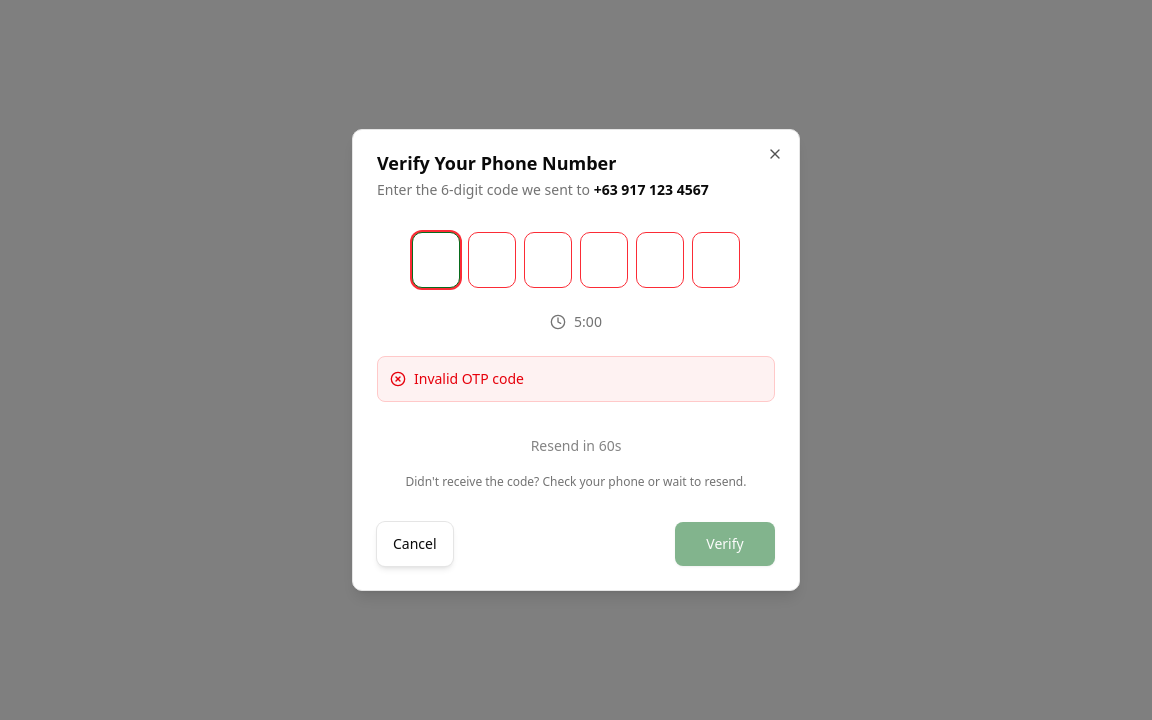
OTPVerificationModal › Error States › should clear error when user starts typing
Check: the text "Invalid OTP code" is shown, box [414, 369, 524, 389]
Type "1" into the field named "Digit 1 of 6" at (436,260), box [412, 232, 460, 288]
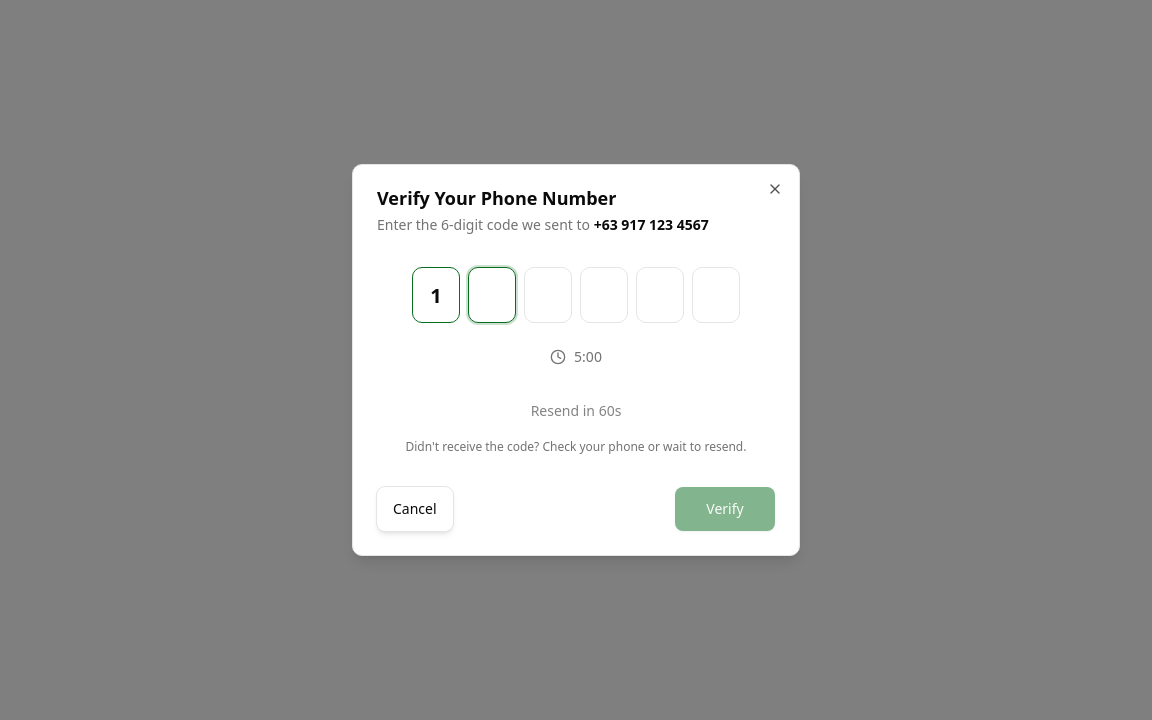
Check: the text "Invalid OTP code" is gone
